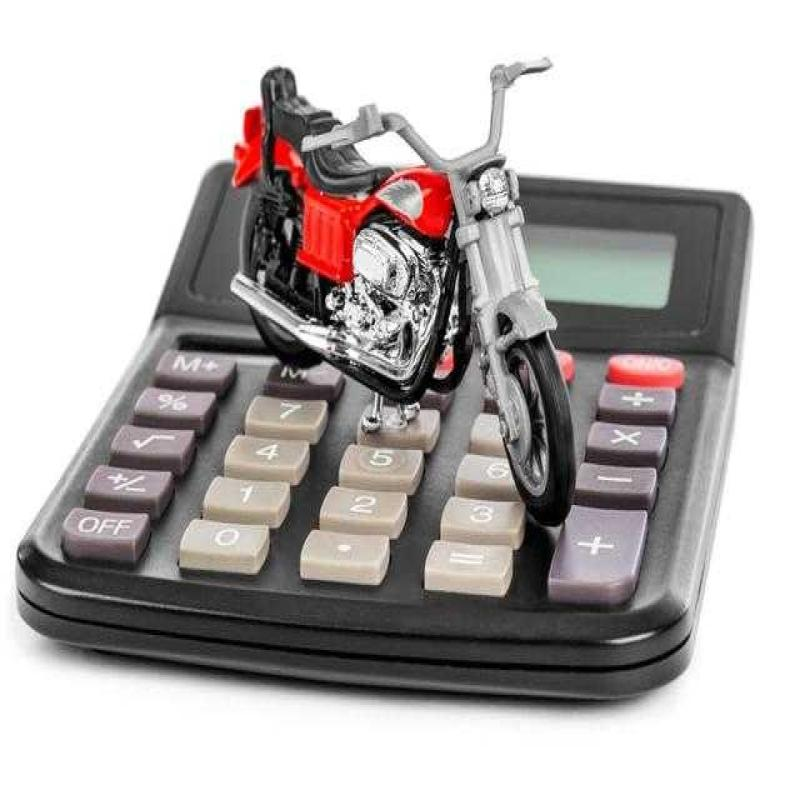bike: (242, 25, 594, 508)
